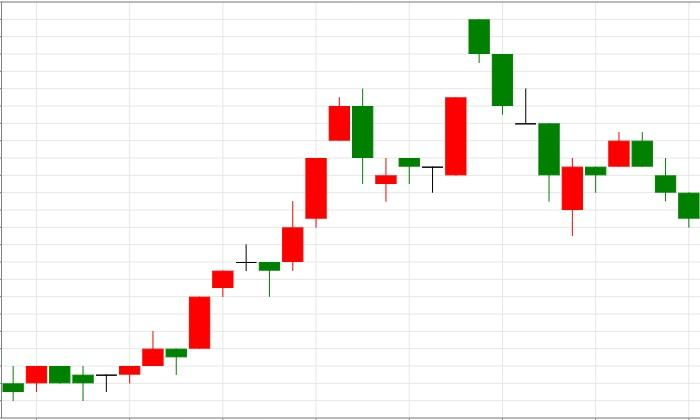bearish_engulfing_fall: (2, 88, 374, 401)
three_black_crows_fall: (561, 132, 700, 236)
